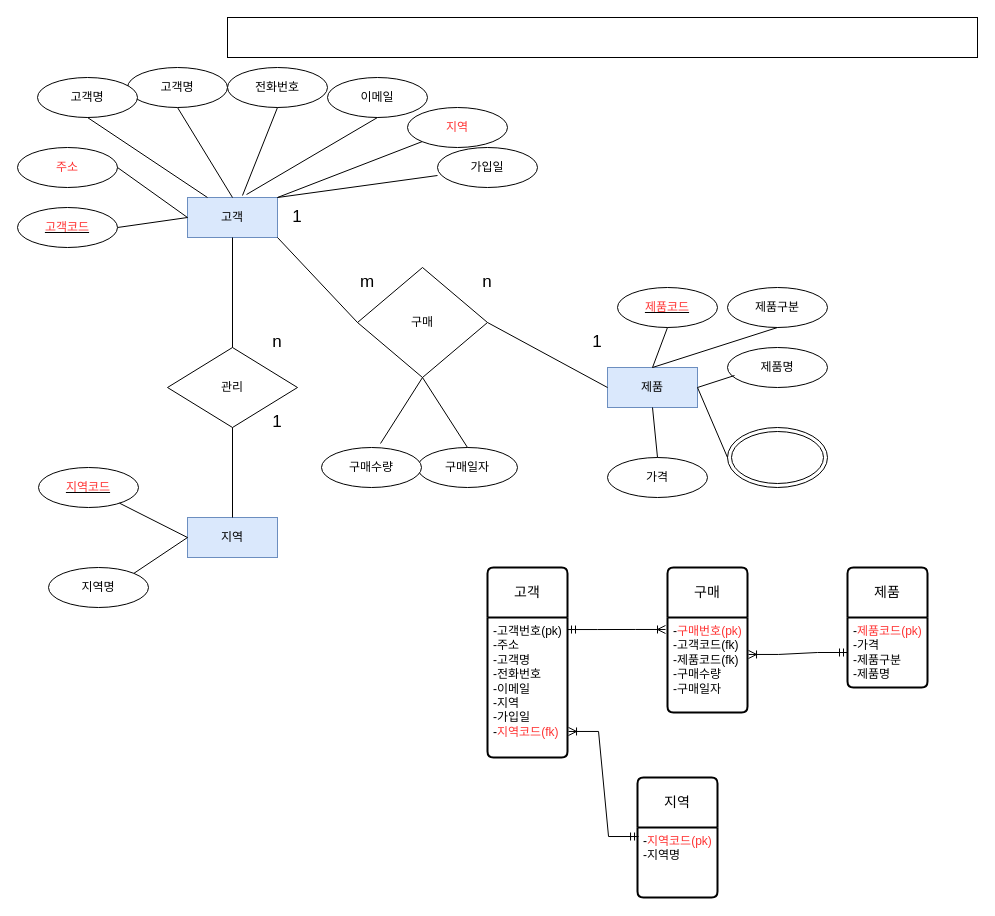
Image size: 995x916. Some labels were removed from this diagram. Each missing label, with the centre of its shape:
"Logical Data Modeling(RM)" goes at point (602, 37).
"제품색상" goes at point (777, 457).
